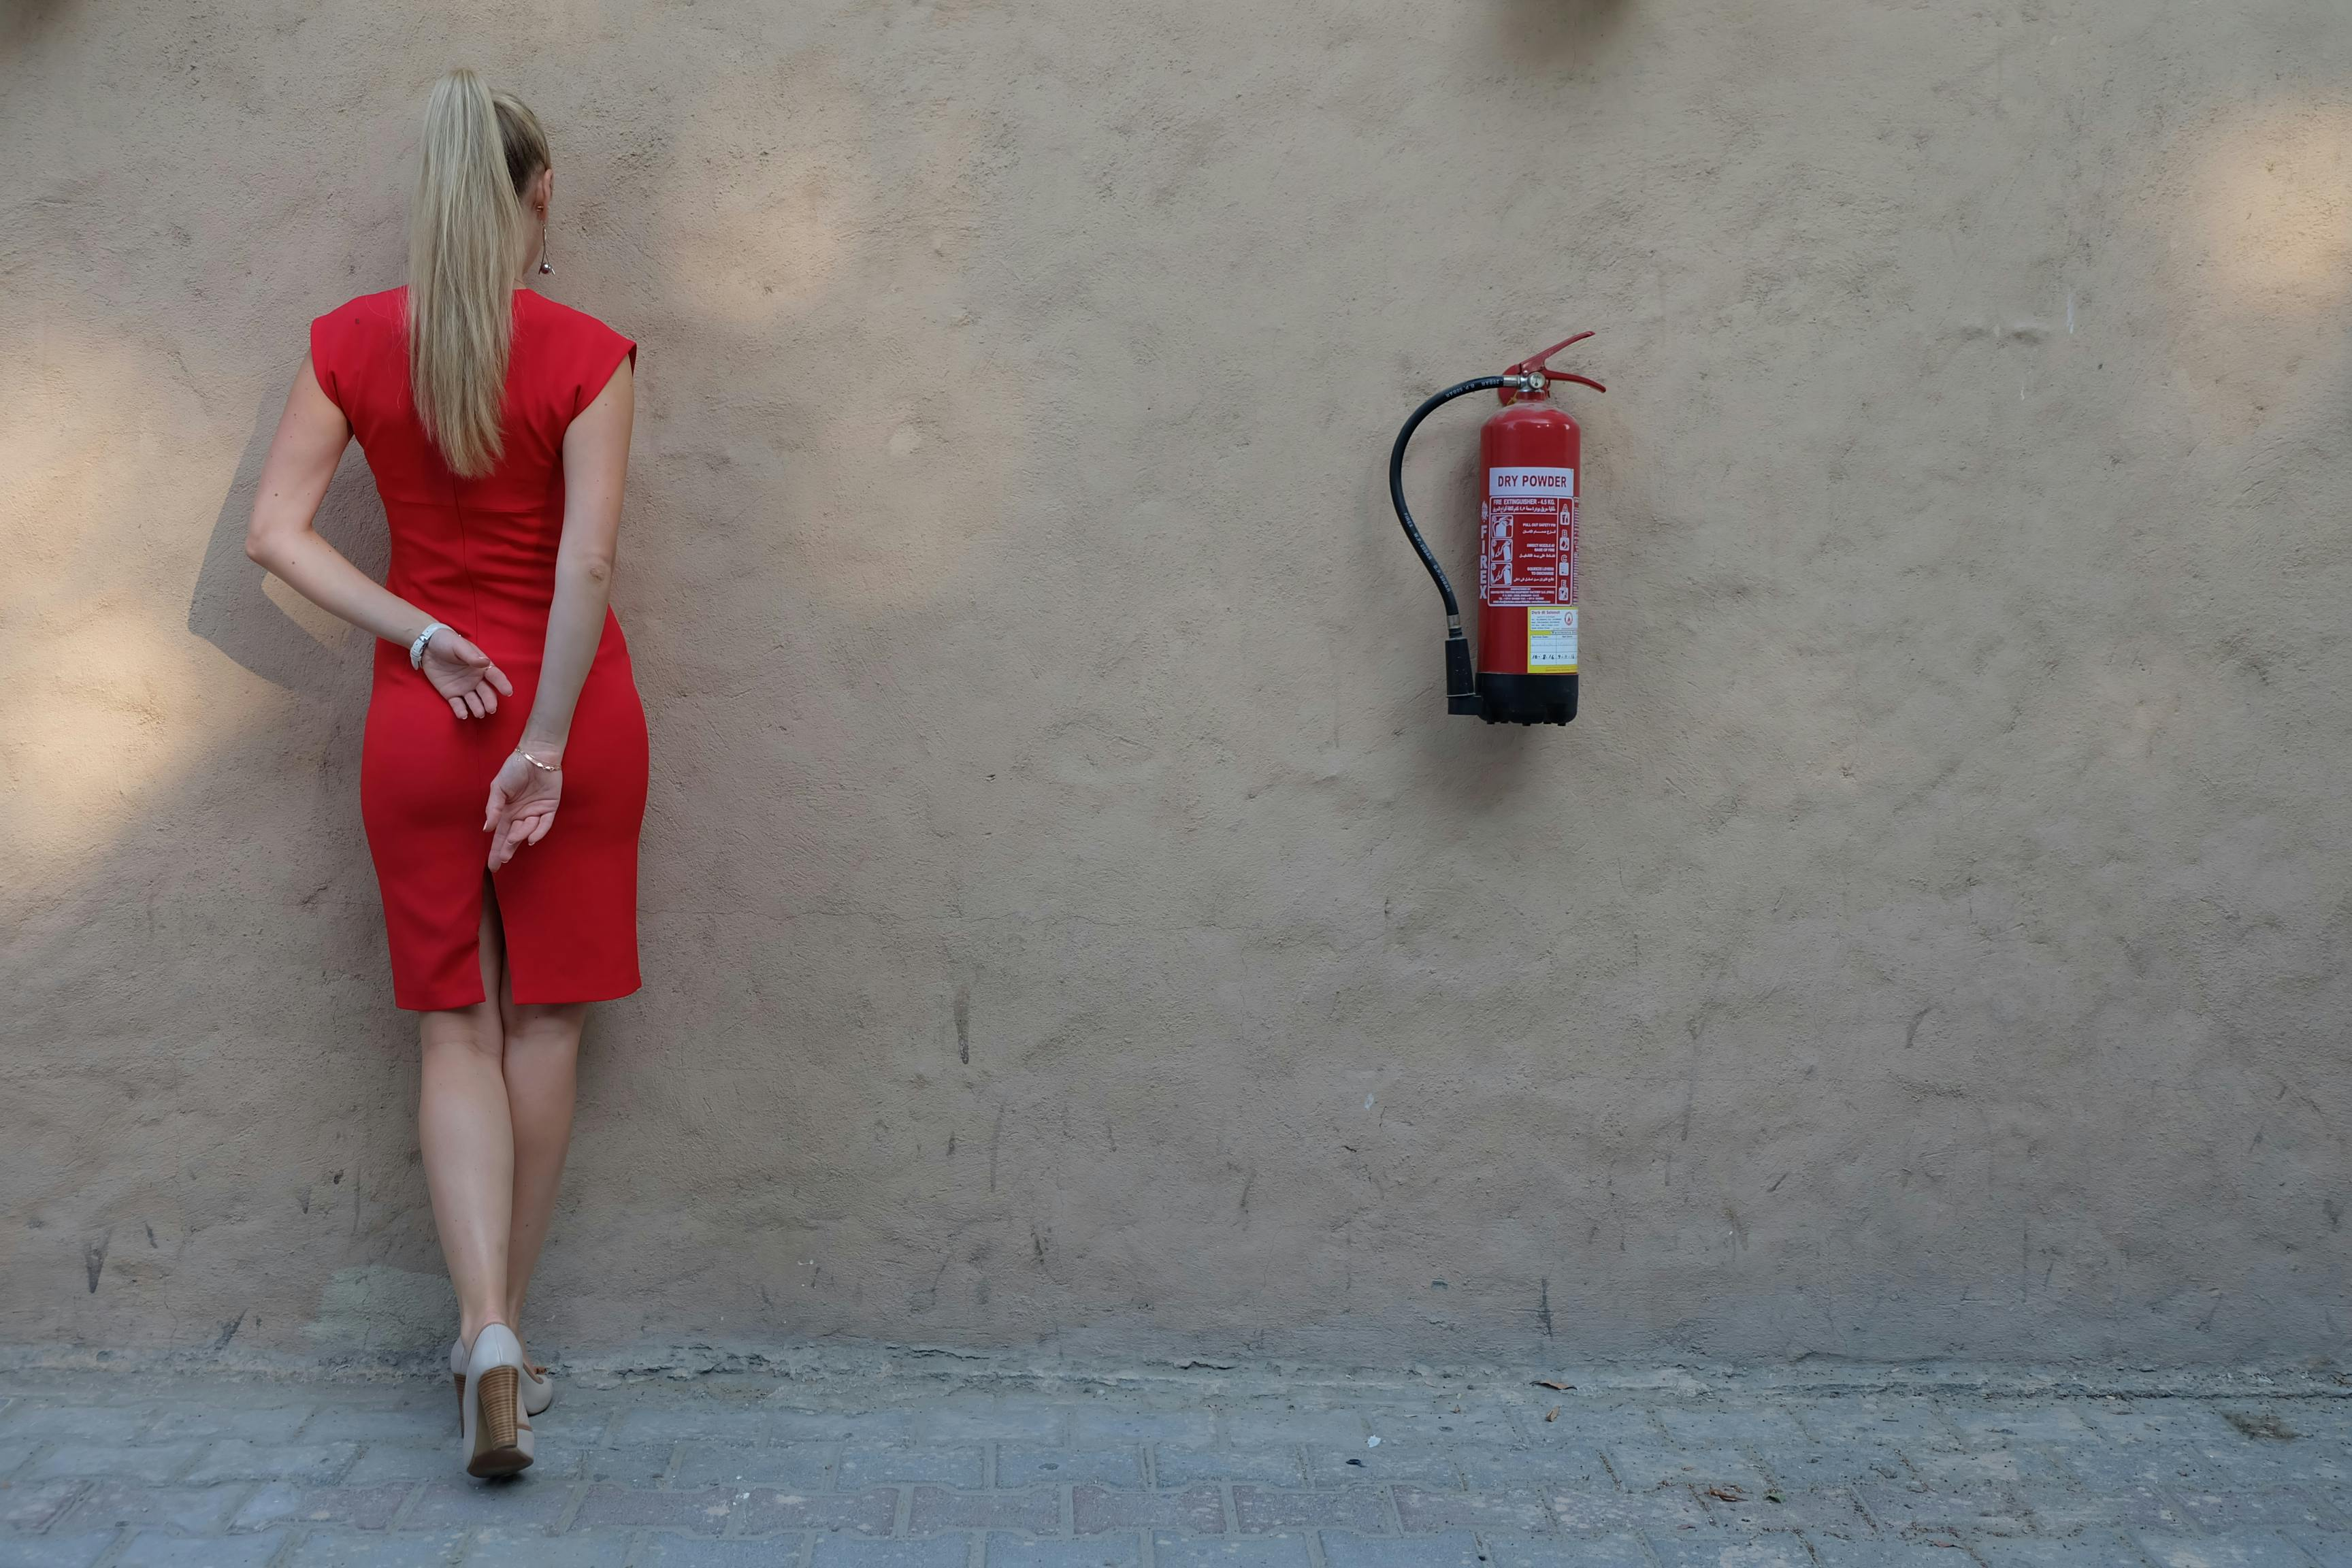extintor: (1383, 304, 1610, 749)
